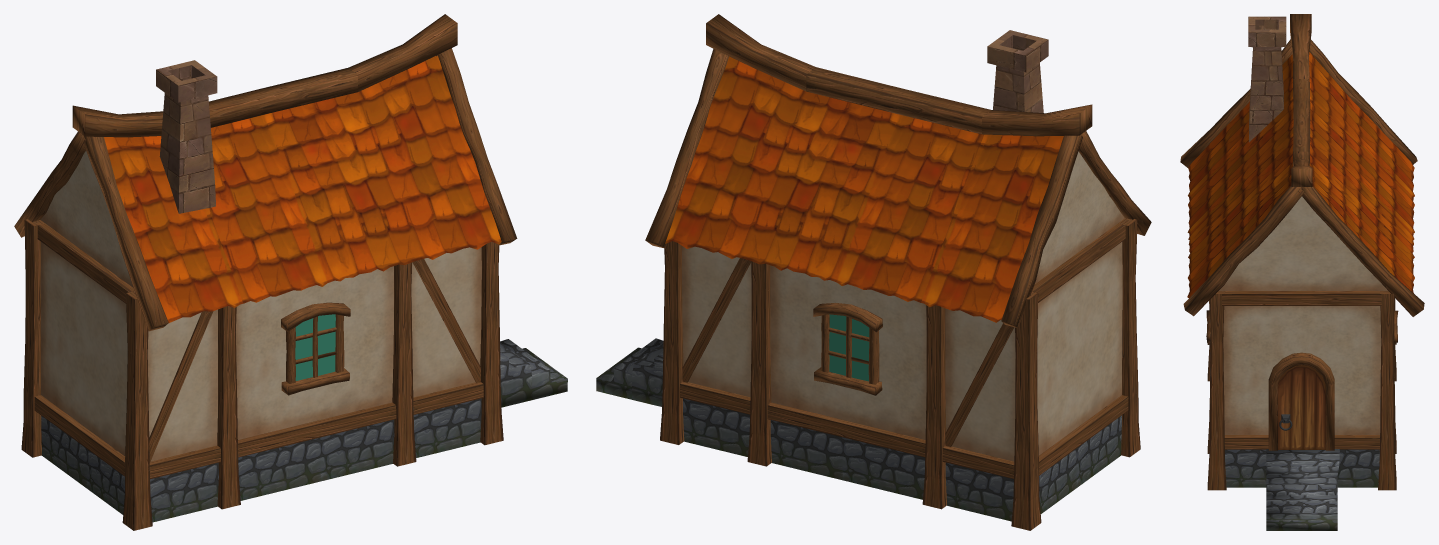
Rendered from house1_morph.fbx.
The picture shows the model from 3 angles, left to right: view 1: azimuth 30°, elevation 25°; view 2: azimuth 150°, elevation 25°; view 3: azimuth 270°, elevation 25°; orthographic projection. The views are drawn at different scales.
Visible parts, largest first — view 1: house1befor; view 2: house1befor; view 3: house1befor.
Boxes of the visible parts, x1,y1,x2,y2 form: house1befor: (14,14,567,530); house1befor: (596,14,1151,530); house1befor: (1180,14,1424,530).
Size of the model in its own units: 185 by 155 by 98.06.
Materials: 3 (2 with a texture image).
